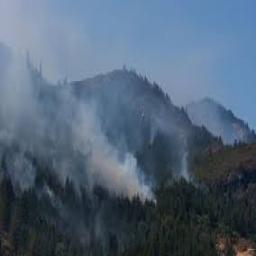Heavy smoke: (0, 60, 158, 204)
Low smoke: (51, 208, 128, 251), (192, 96, 253, 146), (167, 126, 203, 190)
